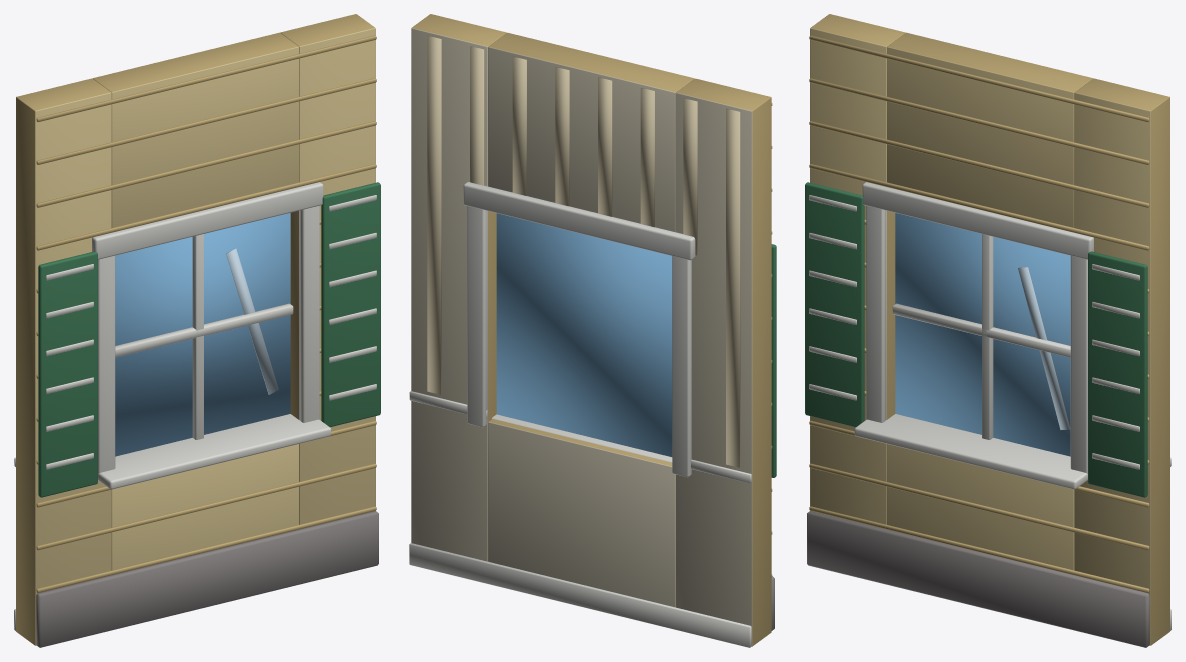
Rendered from wall_window_cream.glb.
The picture shows the model from 3 angles, left to right: view 1: azimuth 30°, elevation 25°; view 2: azimuth 150°, elevation 25°; view 3: azimuth 330°, elevation 25°; orthographic projection.
Visible parts, largest first — view 1: wall_window_cream; view 2: wall_window_cream; view 3: wall_window_cream.
Boxes of the visible parts, box(x1,y1,x2,y2) form: wall_window_cream: box(14, 14, 380, 647); wall_window_cream: box(409, 14, 776, 647); wall_window_cream: box(805, 14, 1171, 647).
Bounding box in the file's own units: 2 × 3 × 0.405.
